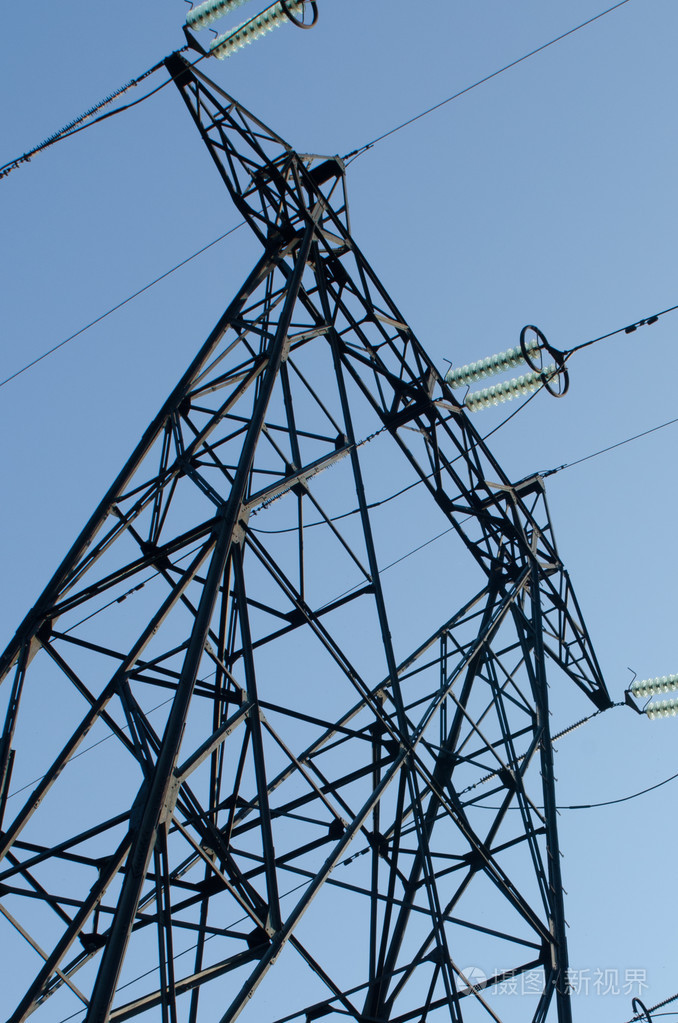insulator: (446, 334, 542, 388), (212, 1, 295, 58), (461, 366, 562, 408), (633, 673, 678, 721), (186, 1, 226, 29)
